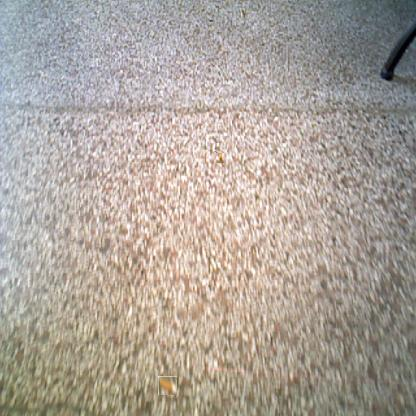dirty: (158, 376, 177, 395), (214, 152, 224, 164)
